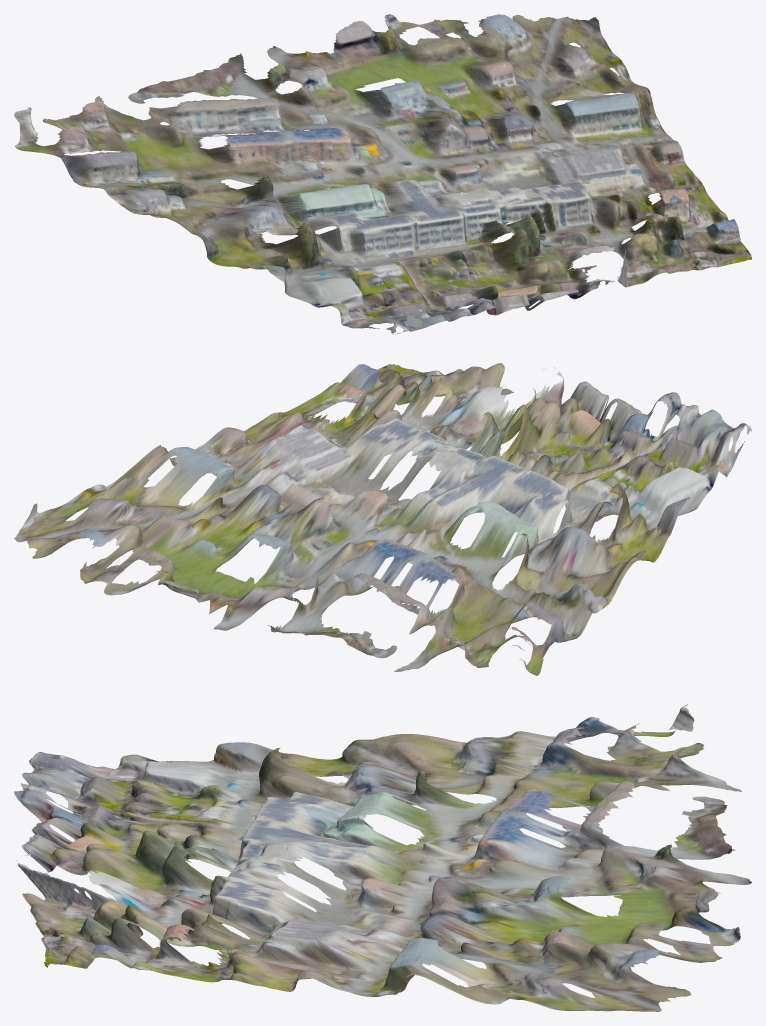
Rendered from render.glb.
3 views of the same model, one above another, from view 1: azimuth 30°, elevation 25°; view 2: azimuth 150°, elevation 25°; view 3: azimuth 270°, elevation 25° (orthographic). The views are drawn at different scales.
Visible parts, largest first — view 1: geometry_0; view 2: geometry_0; view 3: geometry_0.
Part boxes in pixels (<box>): geometry_0: <box>14,14,751,334</box>; geometry_0: <box>14,363,751,675</box>; geometry_0: <box>14,704,751,1011</box>.
Bounding box in the file's own units: 13.52 × 1.02 × 14.74.
